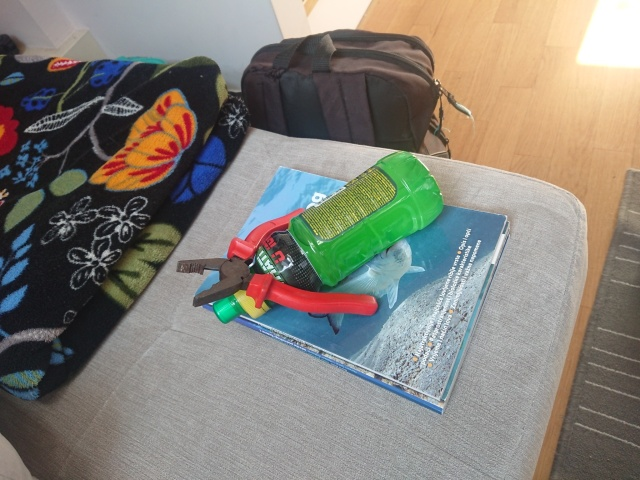Vindi Iso Sport Lemon-Grapefruit 500mL: (210, 149, 447, 326)
